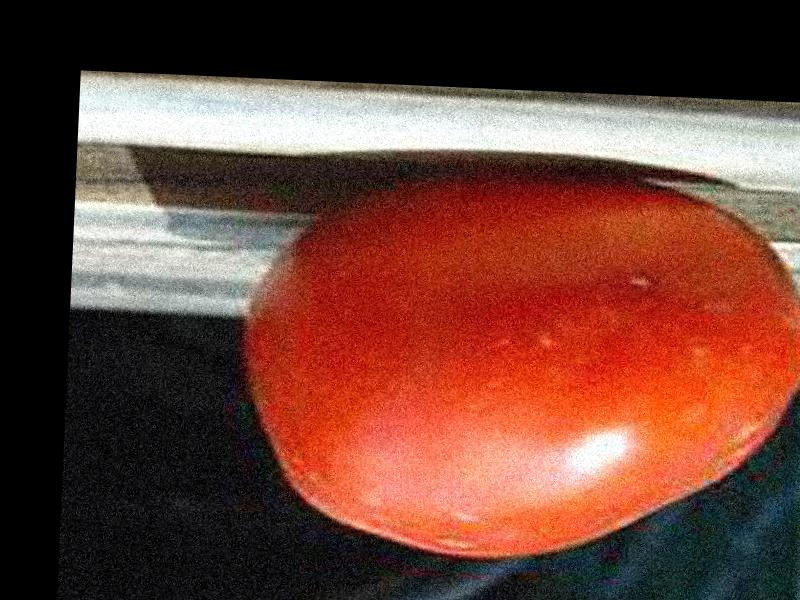Tomato: (239, 163, 800, 572)
